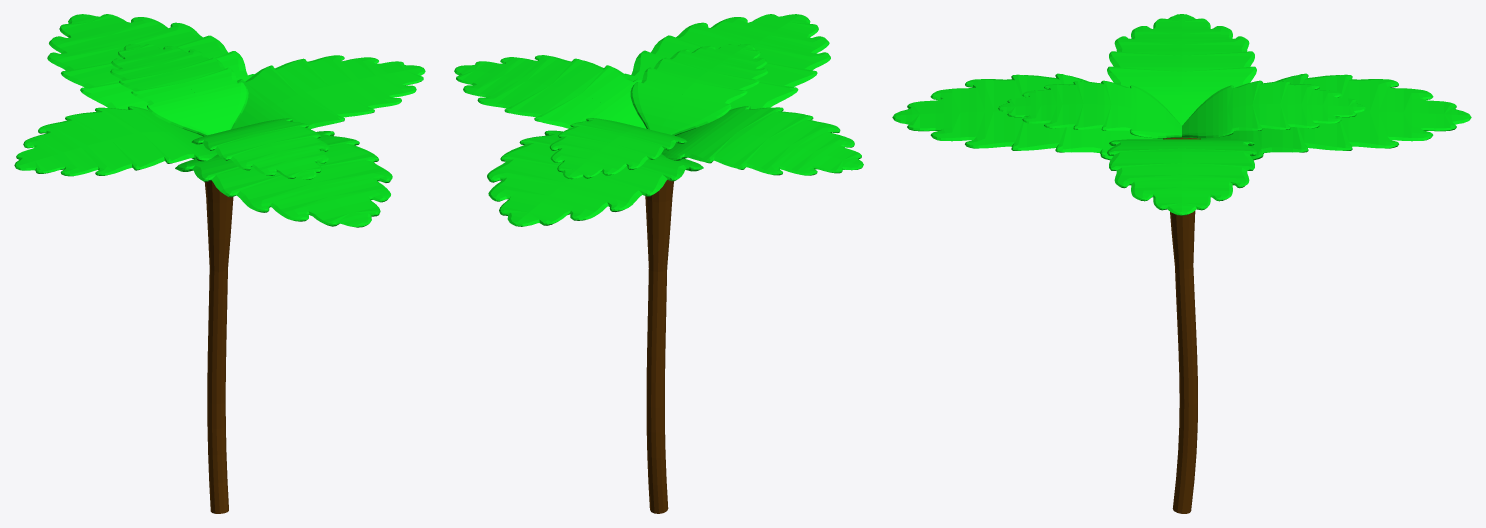
The model's file is happa.fbx.
3 views of the same model, side by side, from view 1: azimuth 30°, elevation 25°; view 2: azimuth 150°, elevation 25°; view 3: azimuth 270°, elevation 25° (orthographic).
Parts seen in each view (by area): view 1: 平面.002; view 2: 平面.002; view 3: 平面.002.
Part boxes in pixels (x1,y1,x2,y2): 平面.002: (14,14,425,513); 平面.002: (454,14,863,513); 平面.002: (892,14,1471,513).
Bounding box in the file's own units: 121 × 114 × 148.
